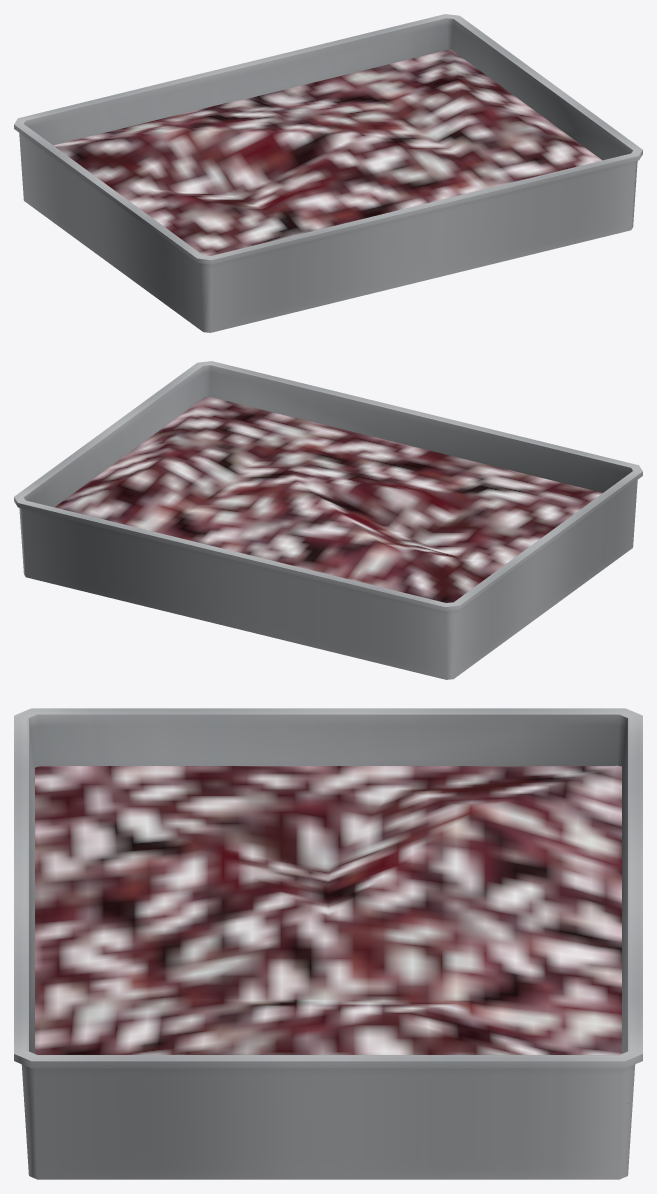
File: jsf_Ingredient_Octopus_02.fbx
The picture shows the model from 3 angles, top to bottom: view 1: azimuth 30°, elevation 25°; view 2: azimuth 150°, elevation 25°; view 3: azimuth 270°, elevation 25°; orthographic projection. The views are drawn at different scales.
Parts seen in each view (by area): view 1: jsf_Ingredient_Octopus_02; view 2: jsf_Ingredient_Octopus_02; view 3: jsf_Ingredient_Octopus_02.
Boxes of the visible parts, box(x1,y1,x2,y2) form: jsf_Ingredient_Octopus_02: box(14, 14, 642, 332); jsf_Ingredient_Octopus_02: box(14, 361, 642, 679); jsf_Ingredient_Octopus_02: box(14, 708, 642, 1179).
Bounding box in the file's own units: 23.93 × 3.95 × 18.03.
